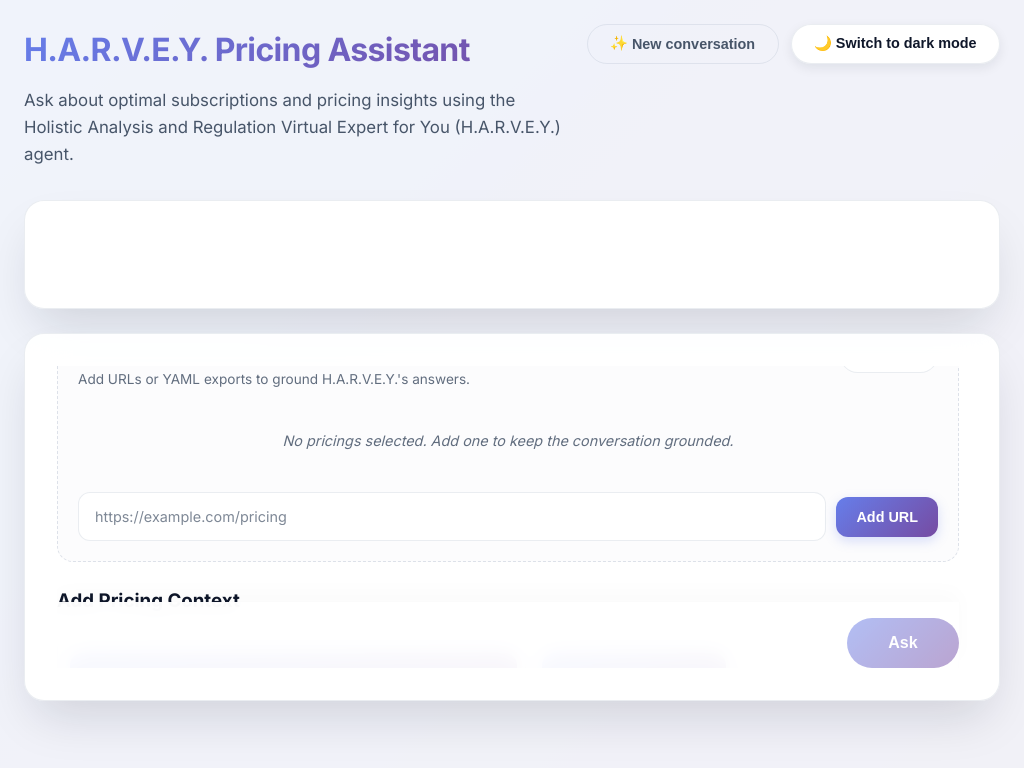
it: Pricing Context Suite › Given URLs should appear in context
The width and height of the screenshot is (1024, 768).
(page scrolled)
Type "https://example.org/testing" into the field with placeholder "https://example.com/pricing". click: (452, 517)
box: [78,492,826,541]
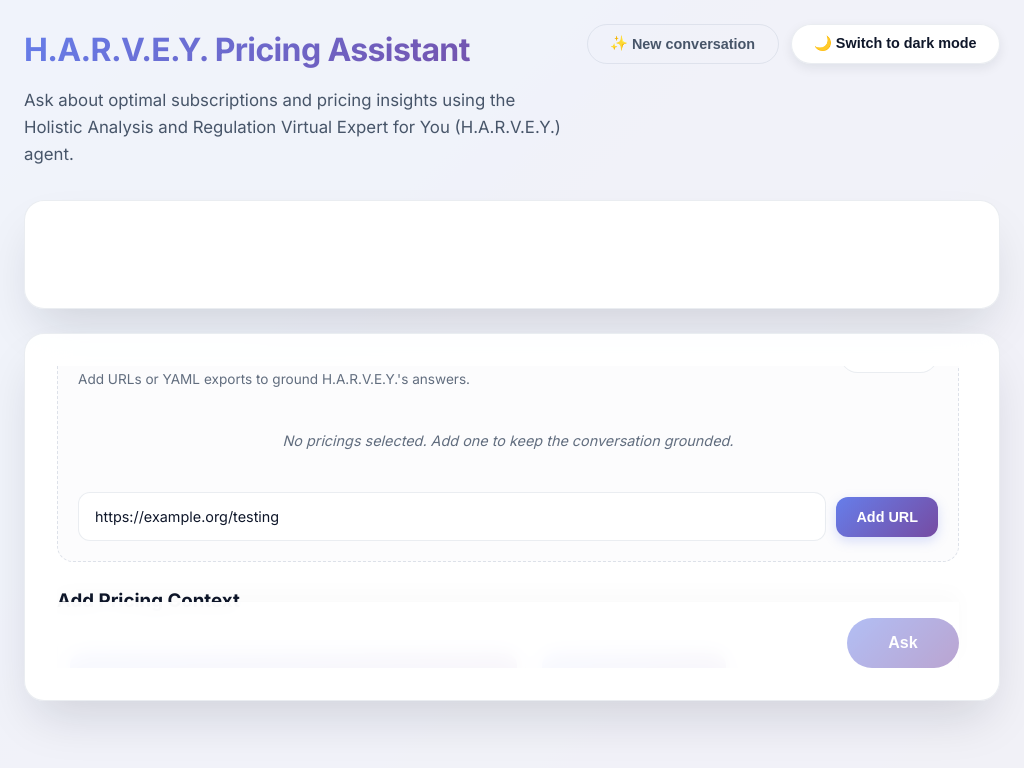
Click the button "Add URL". click: (887, 517)
box: [836,497,938,537]
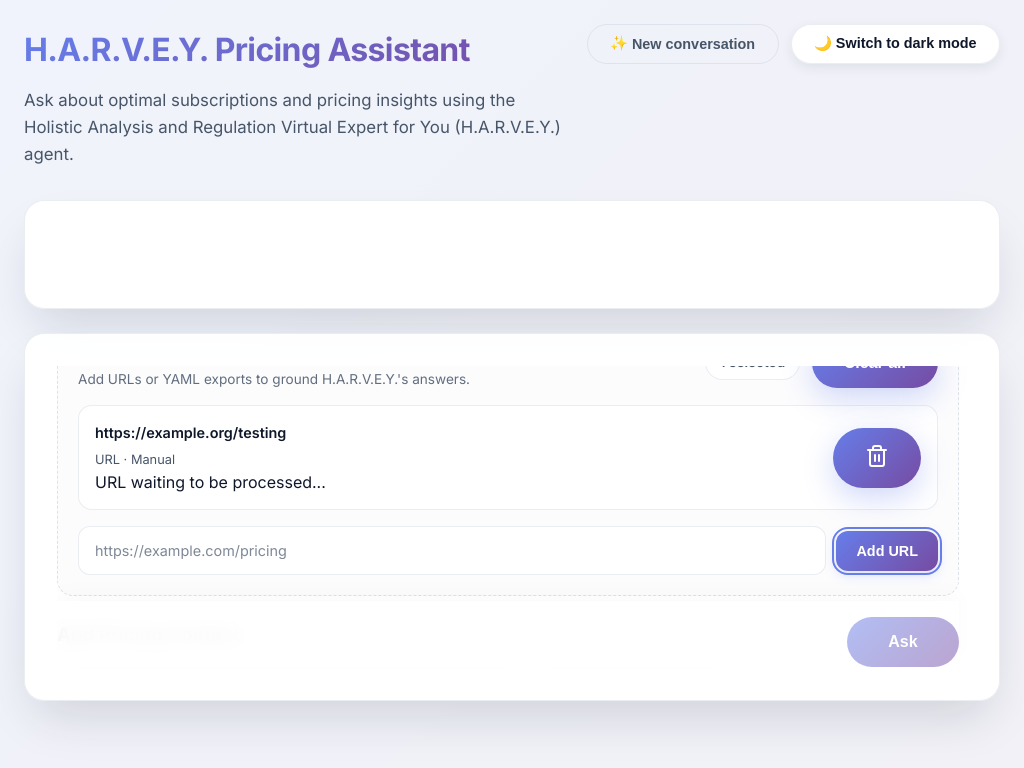
Expected: the text "https://example.org/testing" is shown, [95,424,286,441]
